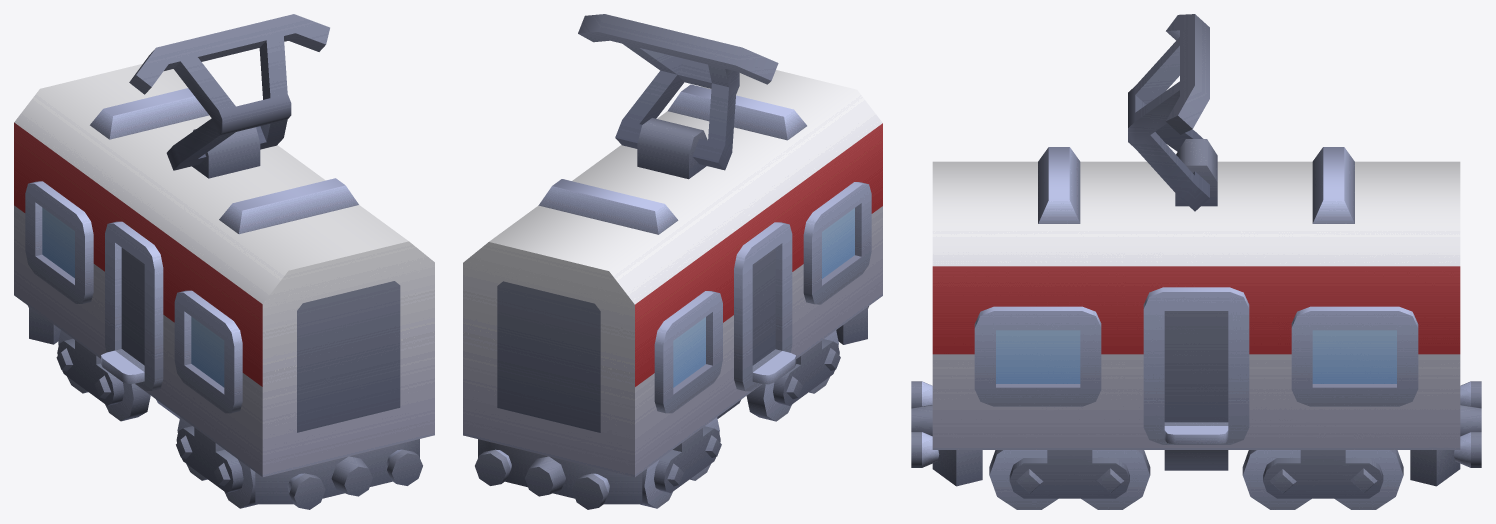
Rendered from Train Electric City B.glb.
3 views of the same model, side by side, from view 1: azimuth 30°, elevation 25°; view 2: azimuth 150°, elevation 25°; view 3: azimuth 270°, elevation 25° (orthographic). The views are drawn at different scales.
Parts seen in each view (by area): view 1: train-electric-city-b, collector, wheels-back, wheels-front; view 2: train-electric-city-b, collector, wheels-front, wheels-back; view 3: train-electric-city-b, collector, wheels-back, wheels-front.
Boxes of the visible parts, x1,y1,x2,y2 form: train-electric-city-b: (14,63,434,509); collector: (129,14,329,170); wheels-back: (56,330,150,421); wheels-front: (176,417,257,508); train-electric-city-b: (463,70,882,509); collector: (578,14,778,170); wheels-front: (746,330,840,421); wheels-back: (640,417,721,508); train-electric-city-b: (911,139,1481,486); collector: (1128,14,1209,211); wheels-back: (1242,450,1403,509); wheels-front: (989,450,1150,509).
Bounding box in the file's own units: 1.3 × 2.22 × 2.7.
Materials: 1 (1 with a texture image).
